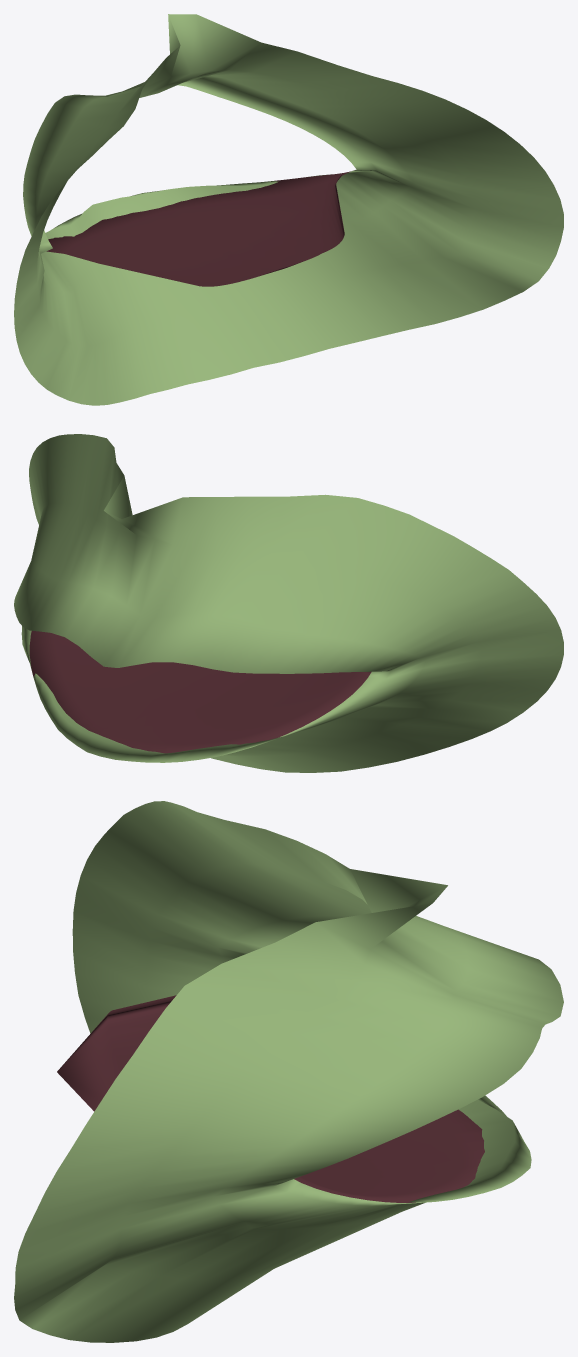
The model's file is human_mouth.glb.
3 renders of one model, top to bottom at view 1: azimuth 30°, elevation 25°; view 2: azimuth 150°, elevation 25°; view 3: azimuth 270°, elevation 25°, orthographic. The views are drawn at different scales.
Visible parts, largest first — view 1: LipInsert; view 2: LipInsert; view 3: LipInsert.
Boxes of the visible parts, x1,y1,x2,y2 form: LipInsert: [14, 14, 563, 405]; LipInsert: [14, 434, 563, 772]; LipInsert: [14, 801, 563, 1342].
Size of the model in its own units: 0.072 by 0.038 by 0.0466.
